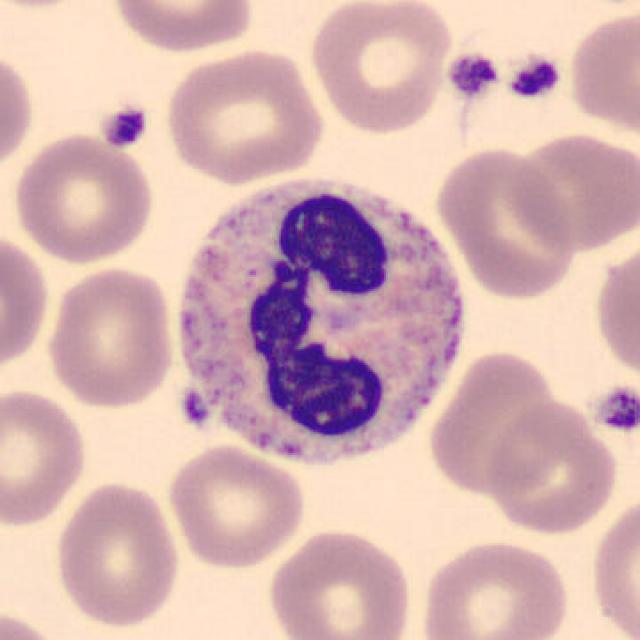Neutrophil: (158, 160, 478, 487)
Platelets: (96, 100, 153, 152), (443, 50, 501, 100), (506, 53, 564, 102), (590, 383, 638, 437), (168, 390, 212, 435)
RBC: (160, 44, 327, 187), (432, 143, 578, 303), (41, 262, 179, 410), (9, 129, 158, 266), (50, 478, 183, 631), (306, 0, 455, 136), (484, 395, 622, 538), (163, 441, 310, 571), (436, 346, 564, 495), (265, 523, 416, 640), (505, 129, 636, 254), (416, 536, 572, 640), (0, 384, 91, 529), (563, 5, 640, 141), (106, 0, 258, 55), (0, 227, 53, 375), (587, 492, 638, 640), (590, 234, 638, 388), (0, 42, 37, 179), (0, 606, 64, 640), (0, 0, 101, 12)
